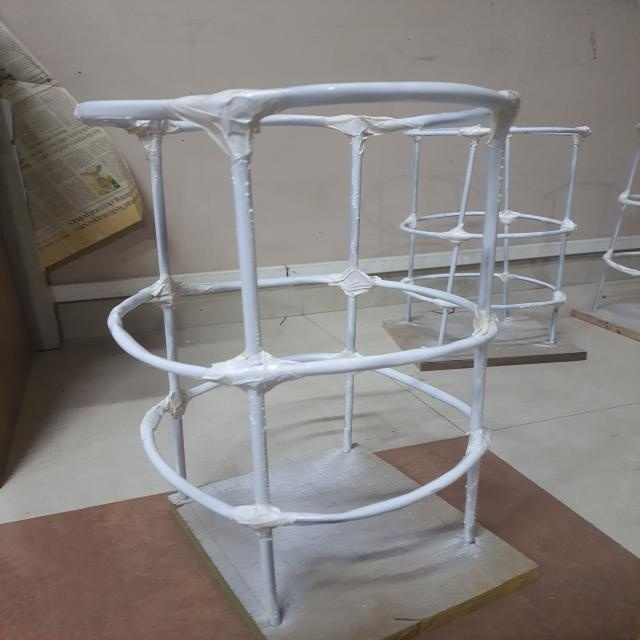silo: (69, 86, 538, 629), (390, 114, 598, 364)
